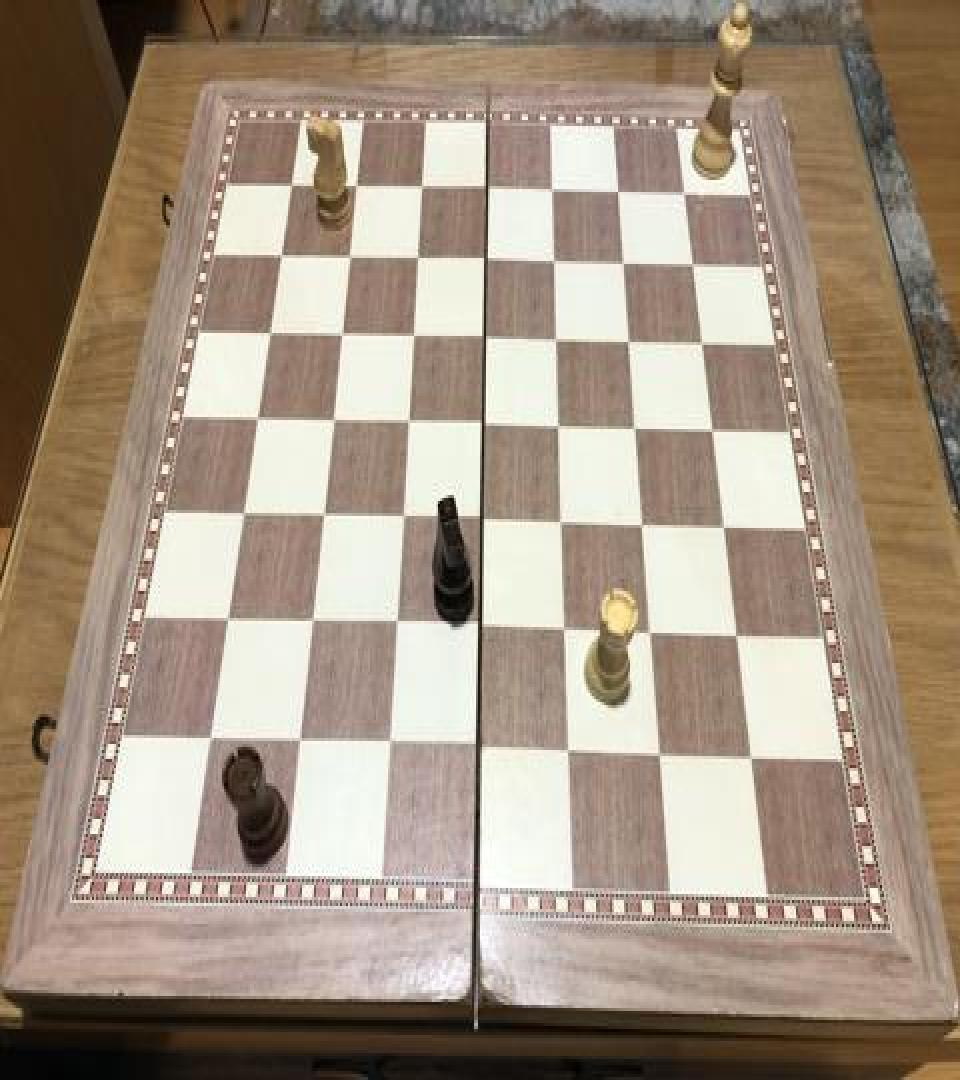xcorner: (216, 601, 240, 638), (739, 739, 763, 776), (558, 733, 582, 770), (377, 727, 401, 764), (673, 177, 697, 213), (607, 176, 631, 212), (541, 174, 565, 210), (411, 171, 435, 207), (345, 170, 369, 206), (280, 168, 304, 204), (681, 248, 705, 284), (612, 246, 636, 282), (543, 244, 567, 280), (475, 243, 499, 279), (406, 242, 430, 278), (338, 240, 362, 276), (270, 238, 294, 274), (690, 327, 714, 363), (618, 324, 642, 360), (546, 322, 570, 358), (474, 321, 498, 357), (402, 320, 426, 356), (330, 316, 354, 352), (259, 315, 283, 351), (624, 411, 648, 447), (548, 410, 572, 446), (472, 406, 496, 442), (397, 405, 421, 441), (321, 402, 345, 438), (246, 400, 270, 436), (712, 510, 736, 546), (631, 507, 655, 543), (551, 504, 575, 540), (471, 502, 495, 538), (391, 500, 415, 536), (311, 498, 335, 534), (232, 495, 256, 531), (725, 618, 749, 654), (639, 615, 663, 651), (554, 612, 578, 648), (469, 609, 493, 645), (384, 606, 408, 642), (300, 604, 324, 640), (648, 736, 672, 772), (467, 730, 491, 766), (287, 724, 311, 760), (198, 722, 222, 758), (476, 173, 500, 208), (701, 413, 725, 448)
